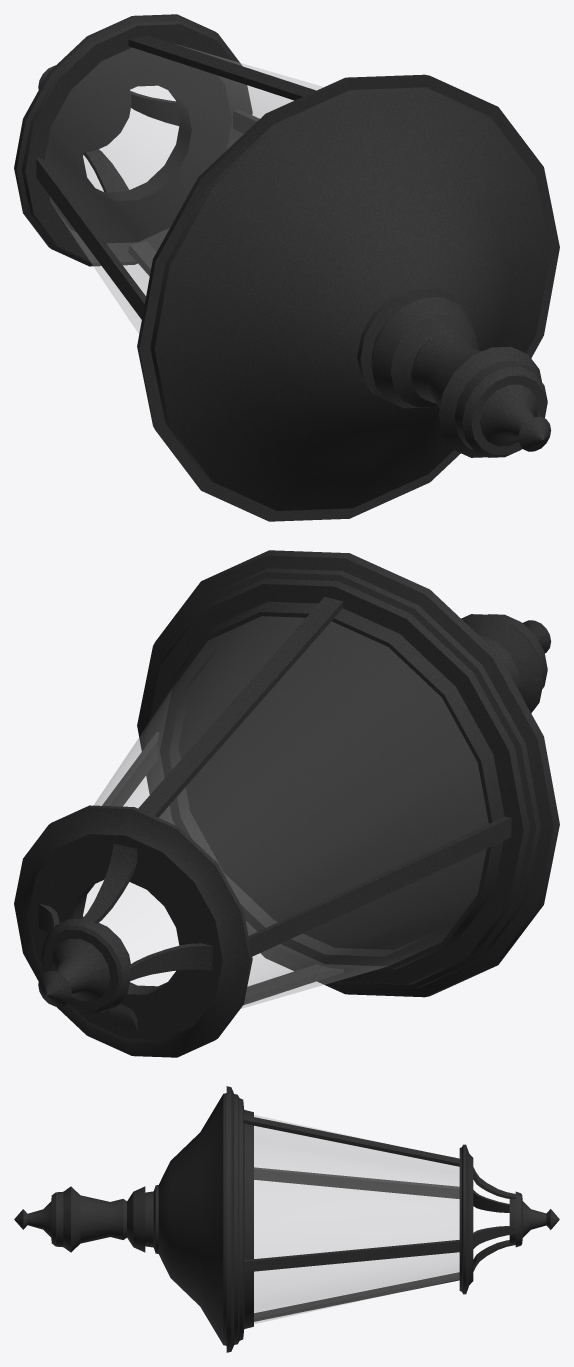
File: Park_Crown.obj
The picture shows the model from 3 angles, top to bottom: view 1: azimuth 30°, elevation 25°; view 2: azimuth 150°, elevation 25°; view 3: azimuth 270°, elevation 25°; orthographic projection. The views are drawn at different scales.
Parts seen in each view (by area): view 1: Schirm_und_Fuss_16_Segmente_BezierCurve.002, Glas_BezierCurve.009, Schirmstreben_Cube.002, Fussstreben_Mesh; view 2: Schirm_und_Fuss_16_Segmente_BezierCurve.002, Glas_BezierCurve.009, Schirmstreben_Cube.002, Fussstreben_Mesh; view 3: Glas_BezierCurve.009, Schirm_und_Fuss_16_Segmente_BezierCurve.002, Schirmstreben_Cube.002, Fussstreben_Mesh.
Part boxes in pixels (box(x1,y1,x2,y2)): Schirm_und_Fuss_16_Segmente_BezierCurve.002: box(14, 14, 559, 521); Glas_BezierCurve.009: box(45, 45, 323, 333); Schirmstreben_Cube.002: box(36, 35, 315, 319); Fussstreben_Mesh: box(83, 91, 179, 192); Schirm_und_Fuss_16_Segmente_BezierCurve.002: box(14, 550, 559, 1057); Glas_BezierCurve.009: box(83, 616, 488, 1008); Schirmstreben_Cube.002: box(102, 597, 511, 1004); Fussstreben_Mesh: box(38, 843, 212, 1030); Glas_BezierCurve.009: box(254, 1115, 459, 1323); Schirm_und_Fuss_16_Segmente_BezierCurve.002: box(14, 1086, 559, 1352); Schirmstreben_Cube.002: box(244, 1115, 459, 1321); Fussstreben_Mesh: box(473, 1167, 515, 1271).
Bounding box in the file's own units: 0.4517 × 0.4517 × 0.9234.
2 materials, 1 textured.
